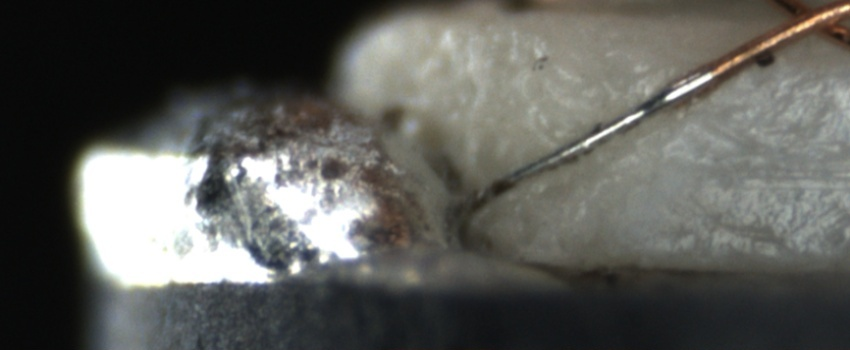CL: (764, 1, 847, 45)
DL: (690, 144, 850, 208), (703, 59, 849, 106)
TS: (469, 67, 714, 210)
TTCW: (464, 26, 780, 203)
